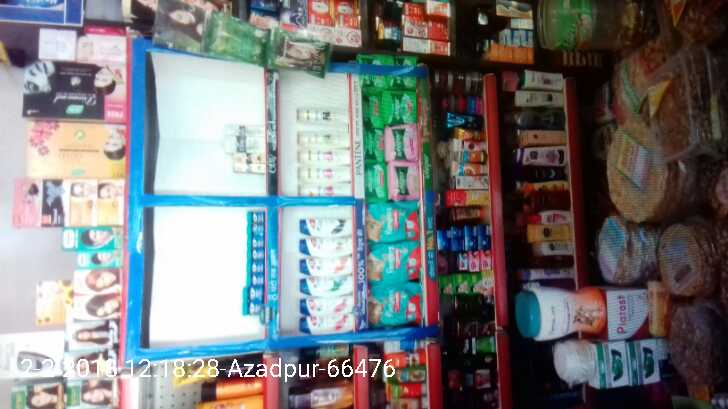vicks: (239, 207, 268, 324)
